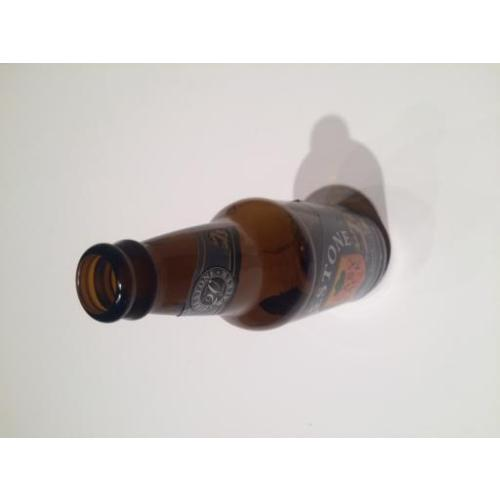glass: (80, 198, 389, 333)
